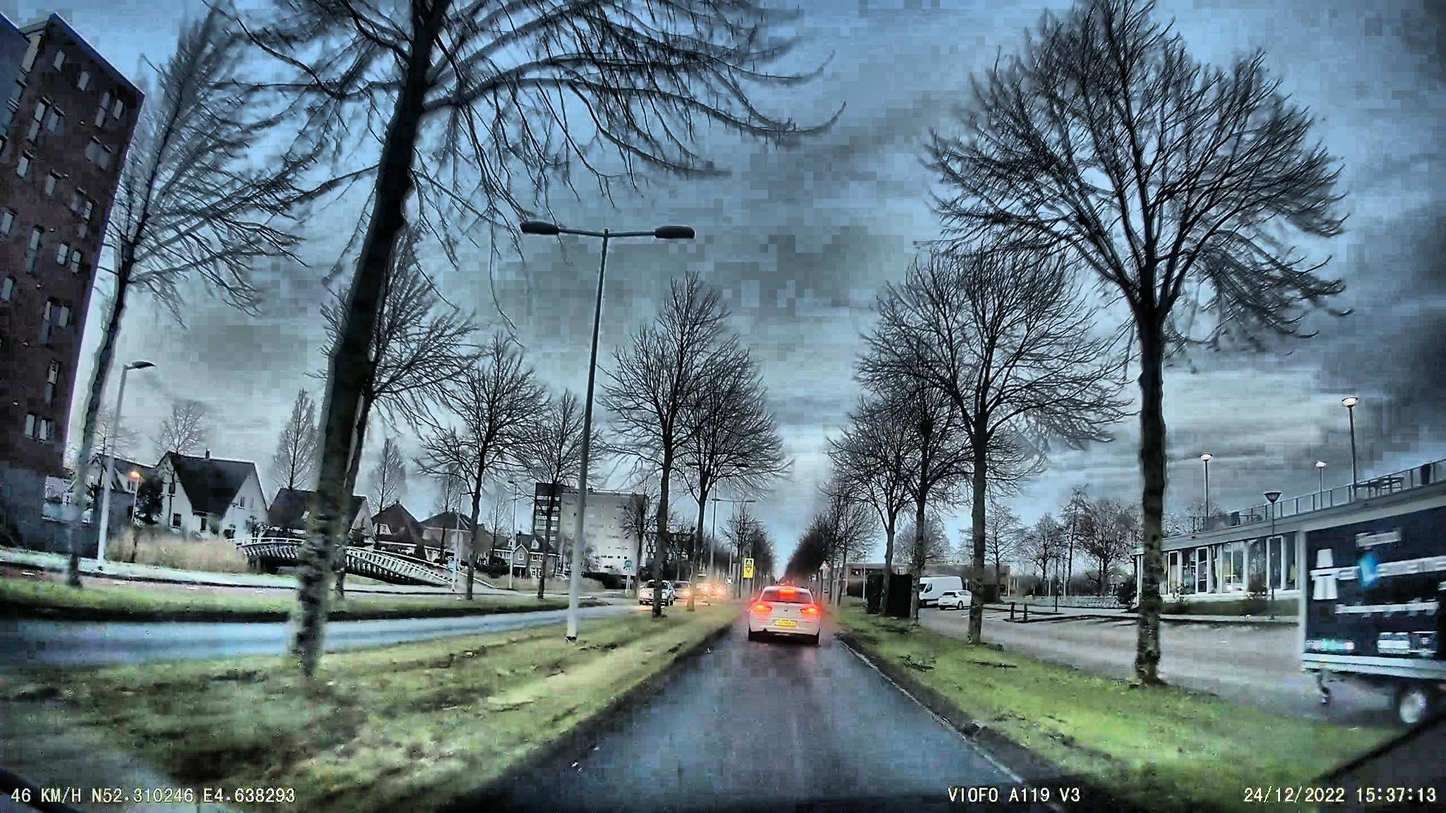Roads: (435, 623, 1154, 813)
